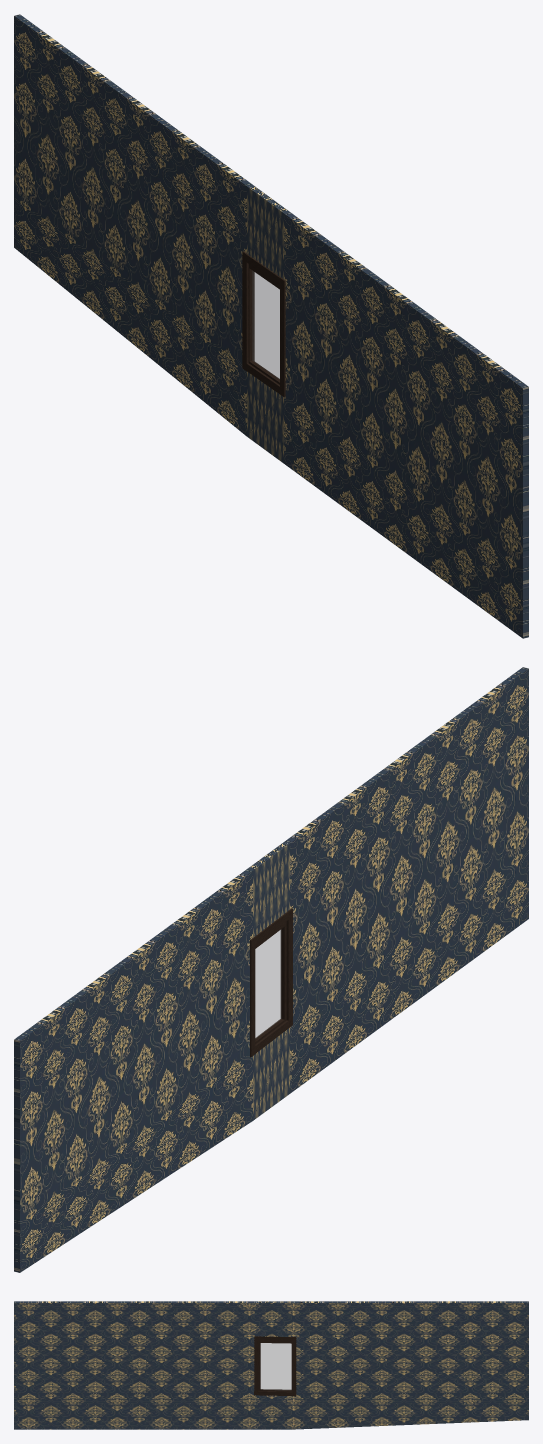
Rendered from Window for office room room.fbx.
3 views of the same model, one above another, from view 1: azimuth 30°, elevation 25°; view 2: azimuth 150°, elevation 25°; view 3: azimuth 270°, elevation 25° (orthographic). The views are drawn at different scales.
Parts seen in each view (by area): view 1: pasted__pCube837, pCube950, pasted__pasted__pCube637, pasted__pasted__pCube743; view 2: pasted__pCube837, pCube950, pasted__pasted__pCube637, pasted__pasted__pCube743; view 3: pasted__pCube837, pCube950, pasted__pasted__pCube637, pasted__pasted__pCube743.
Part boxes in pixels (x1,y1,x2,y2): pasted__pCube837: [14, 14, 528, 638]; pCube950: [252, 271, 279, 379]; pasted__pasted__pCube637: [242, 251, 285, 397]; pasted__pasted__pCube743: [248, 264, 279, 384]; pasted__pCube837: [14, 667, 528, 1272]; pCube950: [255, 929, 281, 1038]; pasted__pasted__pCube637: [250, 908, 292, 1057]; pasted__pasted__pCube743: [255, 921, 286, 1043]; pasted__pCube837: [14, 1301, 528, 1429]; pCube950: [261, 1343, 291, 1389]; pasted__pasted__pCube637: [254, 1336, 296, 1396]; pasted__pasted__pCube743: [258, 1340, 292, 1391].
Bounding box in the file's own units: 17.54 × 522 × 1924.
